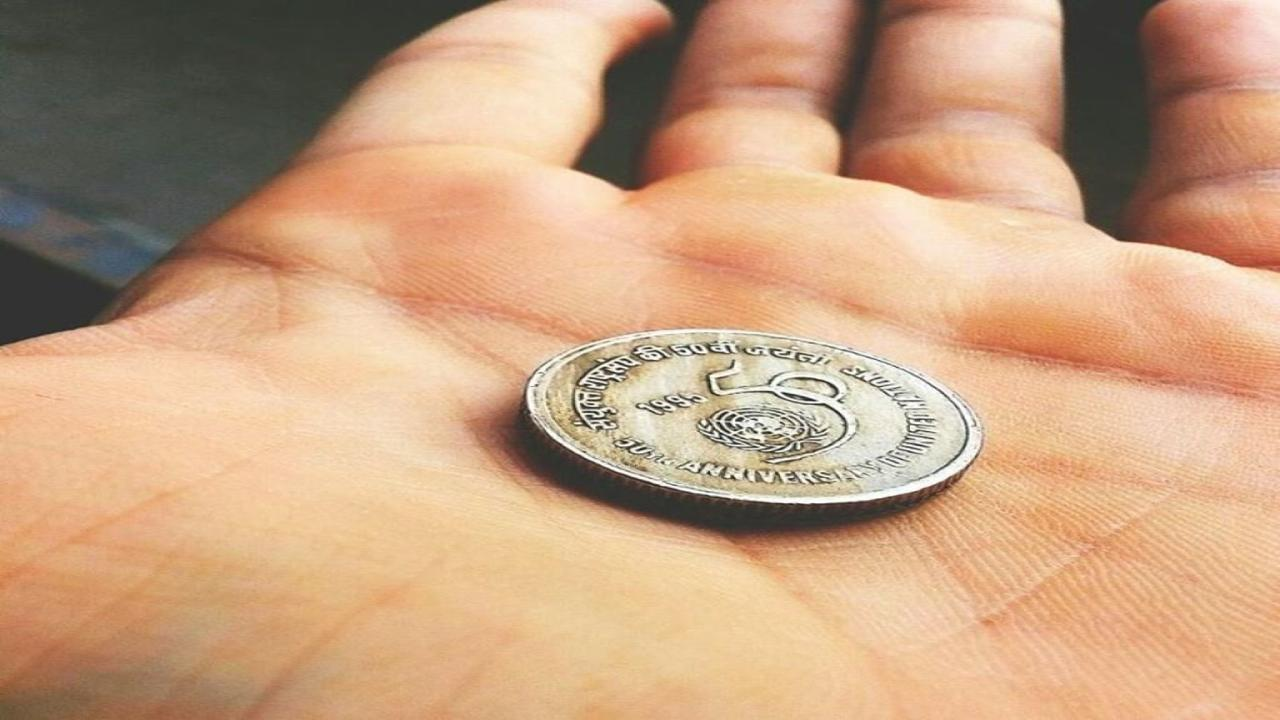coin: (522, 327, 989, 522)
